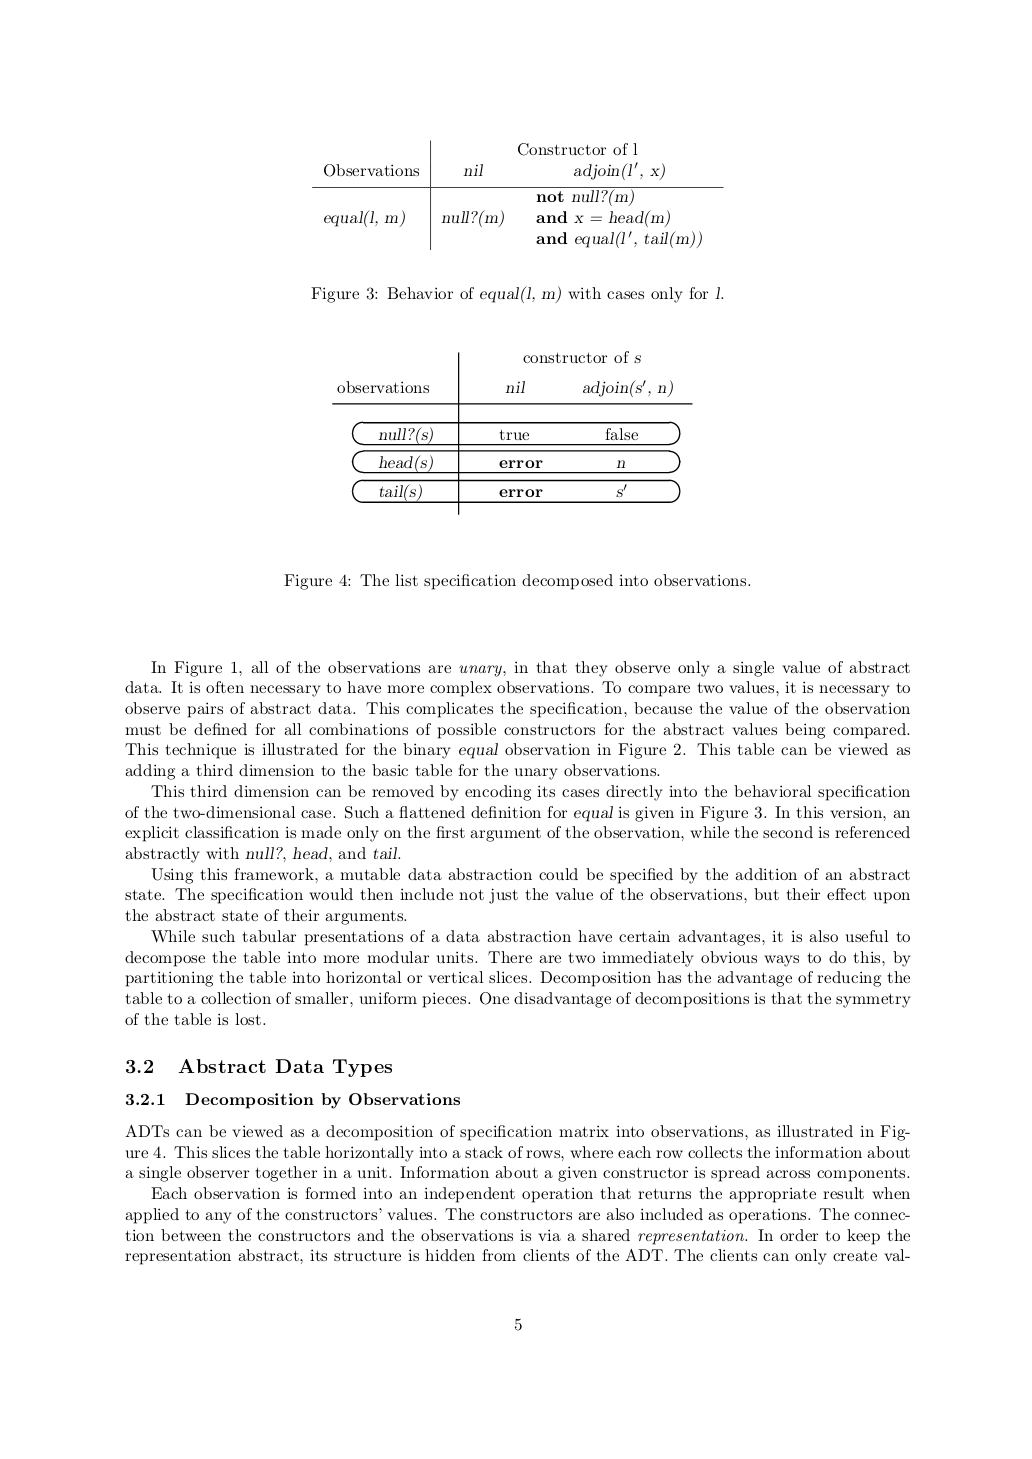Table: (332, 351, 692, 515), (312, 140, 723, 250)
